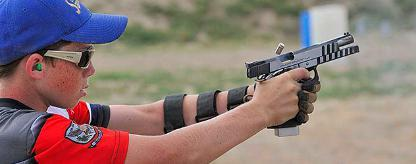pistol: (243, 28, 361, 136)
